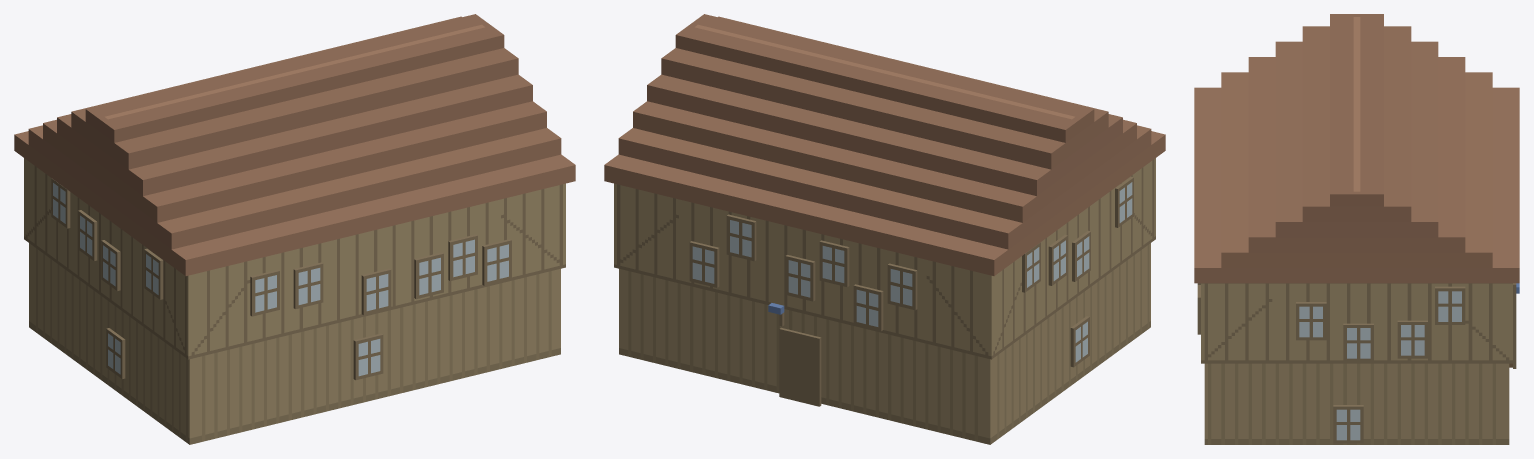
The model's file is posada_03.glb.
The picture shows the model from 3 angles, left to right: view 1: azimuth 30°, elevation 25°; view 2: azimuth 150°, elevation 25°; view 3: azimuth 270°, elevation 25°; orthographic projection. The views are drawn at different scales.
Parts seen in each view (by area): view 1: posada_03; view 2: posada_03; view 3: posada_03.
Boxes of the visible parts, box(x1,y1,x2,y2) form: posada_03: box(14, 14, 575, 444); posada_03: box(604, 14, 1165, 444); posada_03: box(1194, 14, 1519, 444).
Size of the model in its own units: 12.6 by 8.3 by 9.6.
